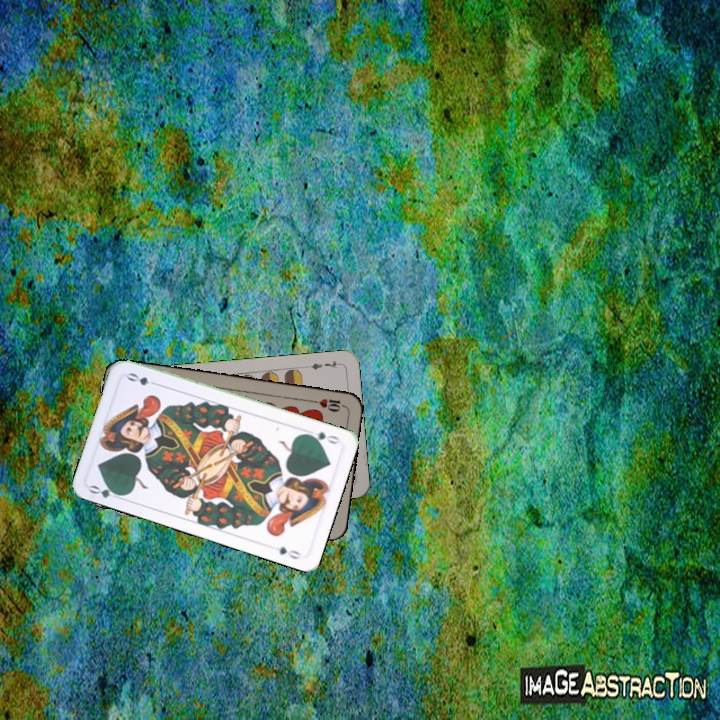E7: (302, 357, 343, 372)
GO: (85, 480, 126, 502), (302, 427, 342, 447)
H10: (307, 394, 347, 414)
